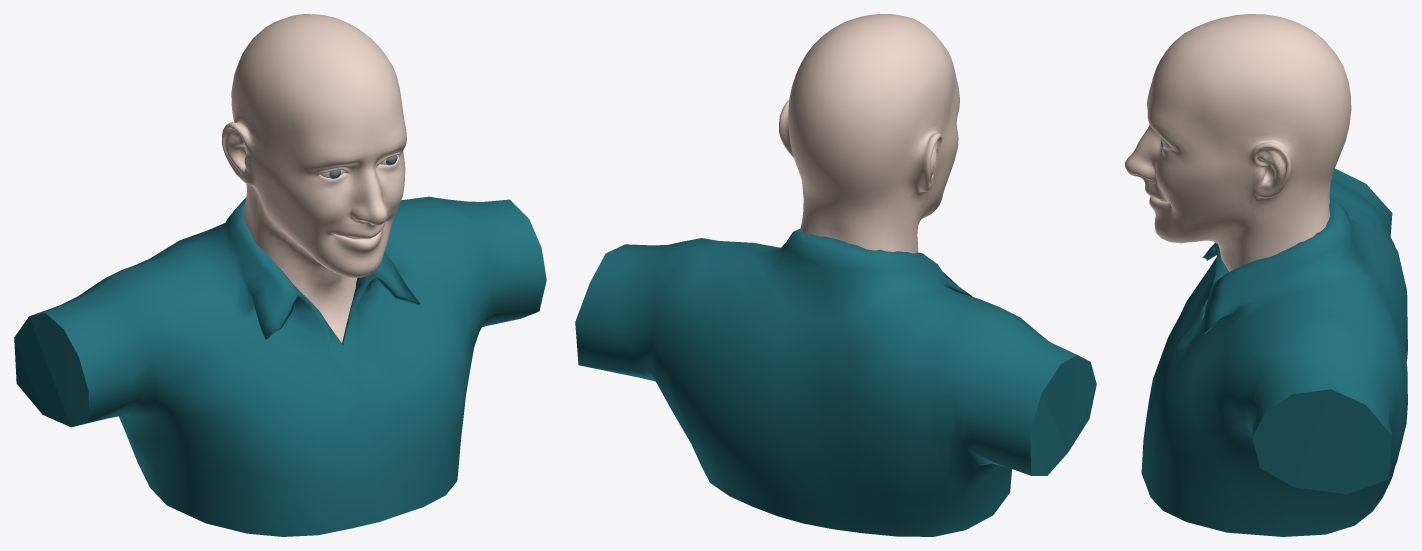
File: InteractiveTreePersonUnknownCartoon.dae
3 renders of one model, left to right at view 1: azimuth 30°, elevation 25°; view 2: azimuth 150°, elevation 25°; view 3: azimuth 270°, elevation 25°, orthographic. The views are drawn at different scales.
Visible parts, largest first — view 1: model; view 2: model; view 3: model.
Boxes of the visible parts, box(x1,y1,x2,y2) form: model: box(14, 14, 546, 536); model: box(575, 14, 1096, 536); model: box(1125, 14, 1407, 536).
Bounding box in the file's own units: 0.5471 × 0.5145 × 0.2936.
